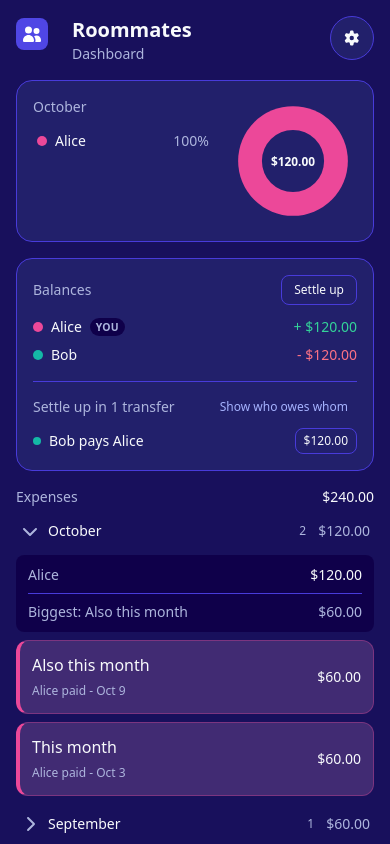
Scenario: DashboardView on the main group › expenses by month › closes the month that was open when it is tapped again
The image size is (390, 844).
What coordinates should you click on to do the following:
click the button with test id "month-toggle" showing "October 2"
I would click on:
 (75, 530)
Its box is top-left (16, 515), bottom-right (310, 547).
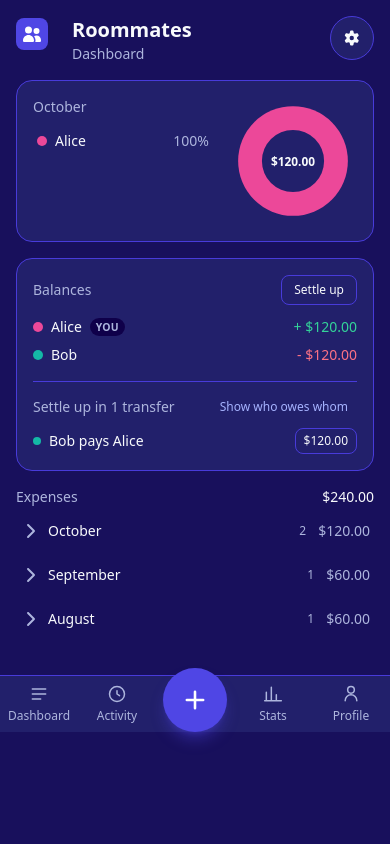
Now no links with test id "expense-card" are shown
Now the button with test id "month-toggle" is collapsed, box top-left (16, 515), bottom-right (310, 547)
